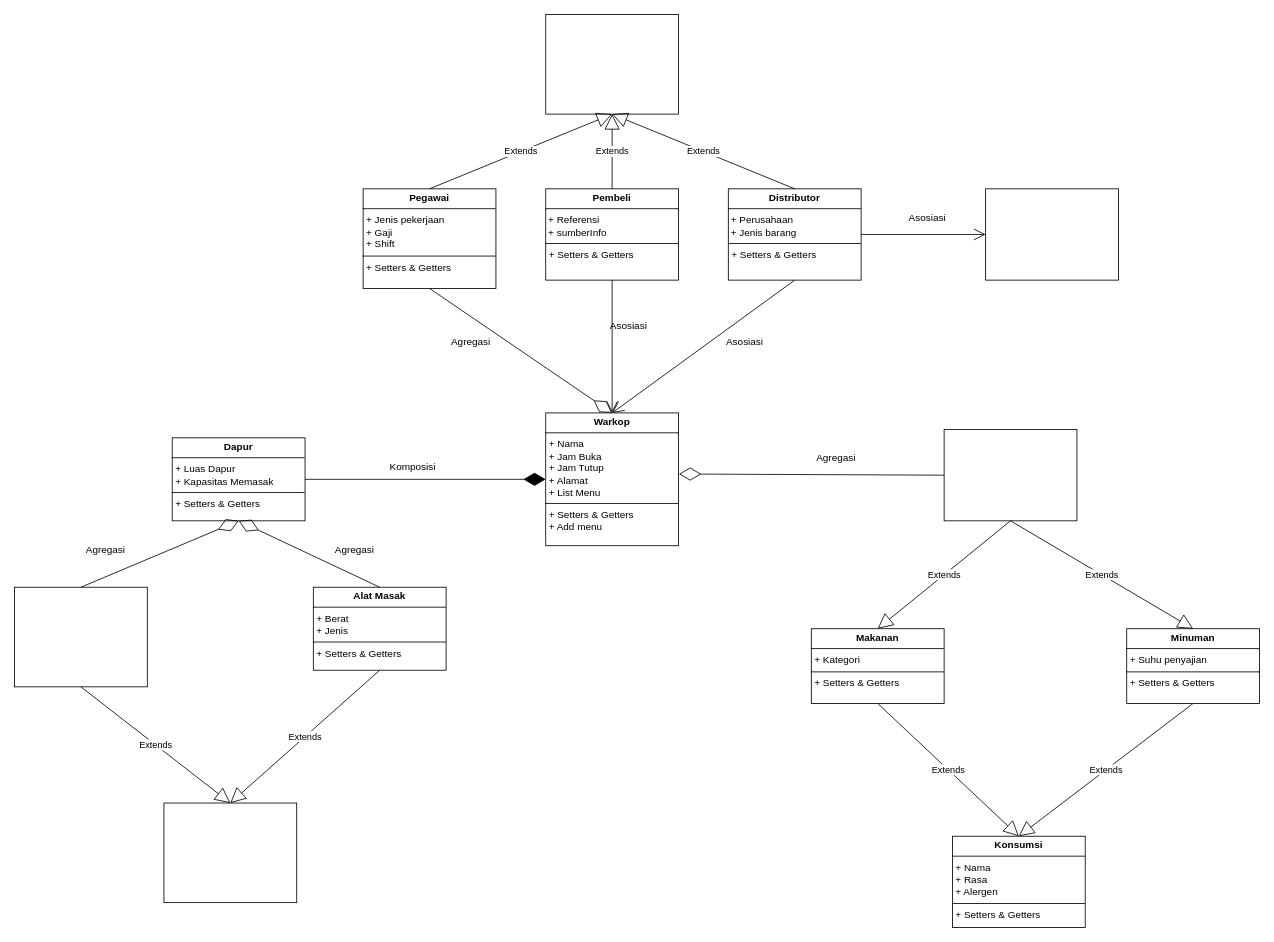
Image size: 1274x942. Some labels were removed from this diagram. The shapes that lost their labels are listed below. From the top down, each one's centre as x and y in pixels, then its label:
the point at 612,64: Manusia + Nama + Umur + Jenis Kelamin + Setters & Getters
the point at 1051,234: Stok + Nama bahan + Jumlah + Satuan + Setters & Getters
the point at 1010,475: Menu + Id Menu + Rekomen + Harga + Setters & Getters
the point at 80,636: Alat Penyaji + Jenis + Jumlah + Ukuran + Setters & Getters
the point at 230,852: Peralatan + Nama Brand + Kondisi + Bahan + Setters & Getters
